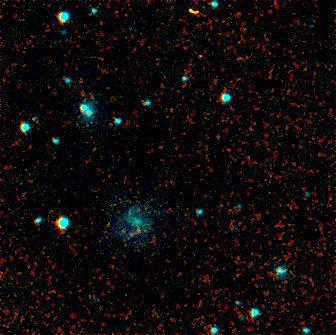star: (189, 41, 219, 71)
